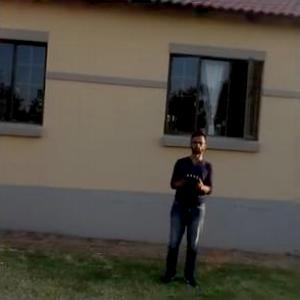follow: (160, 122, 216, 291)
